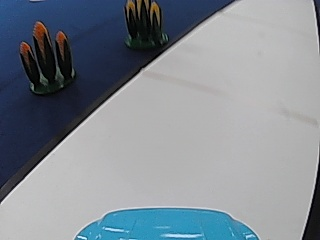corn: (20, 22, 77, 93), (123, 0, 168, 49)
